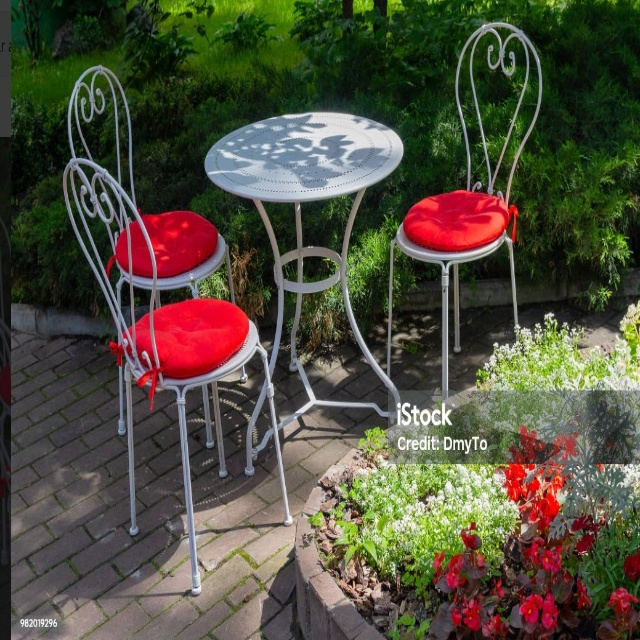obstacle: (60, 151, 299, 589), (201, 105, 409, 442), (391, 14, 544, 385), (65, 53, 229, 278)
